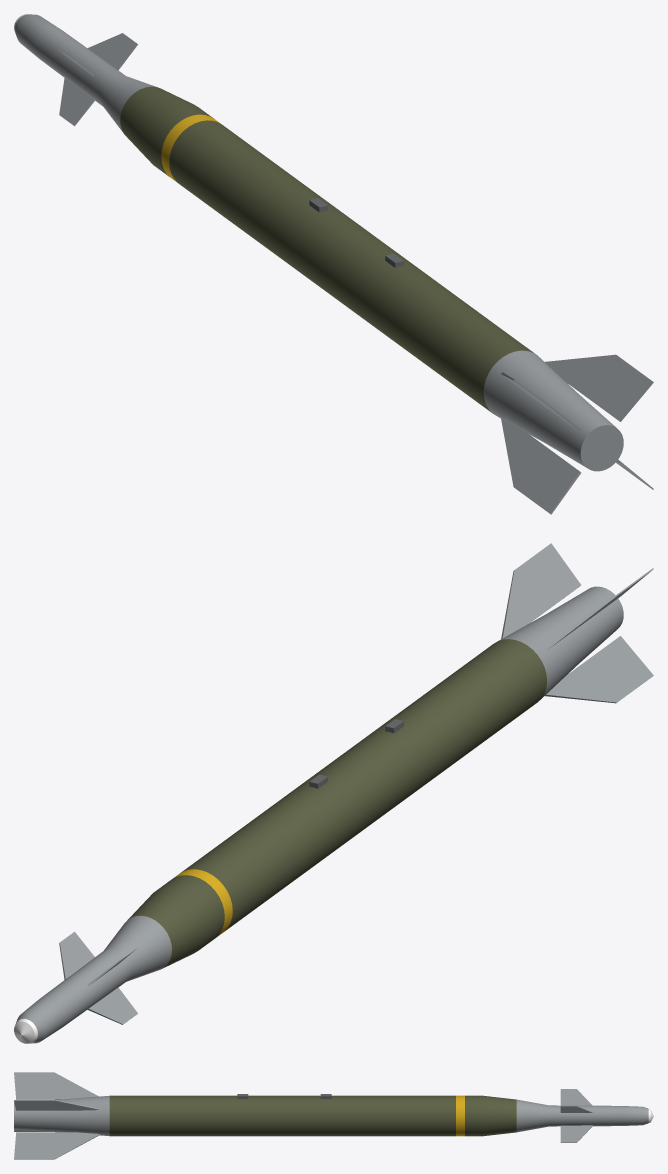
Rendered from gbu28.glb.
3 renders of one model, top to bottom at view 1: azimuth 30°, elevation 25°; view 2: azimuth 150°, elevation 25°; view 3: azimuth 270°, elevation 25°, orthographic. The views are drawn at different scales.
Parts seen in each view (by area): view 1: gbu28_body; view 2: gbu28_body; view 3: gbu28_body.
Boxes of the visible parts, box(x1,y1,x2,y2) form: gbu28_body: box(14, 14, 653, 514); gbu28_body: box(14, 543, 653, 1043); gbu28_body: box(14, 1072, 653, 1159).
Size of the model in its own units: 0.7182 by 0.7182 by 6.98.
5 materials, 5 textured.
